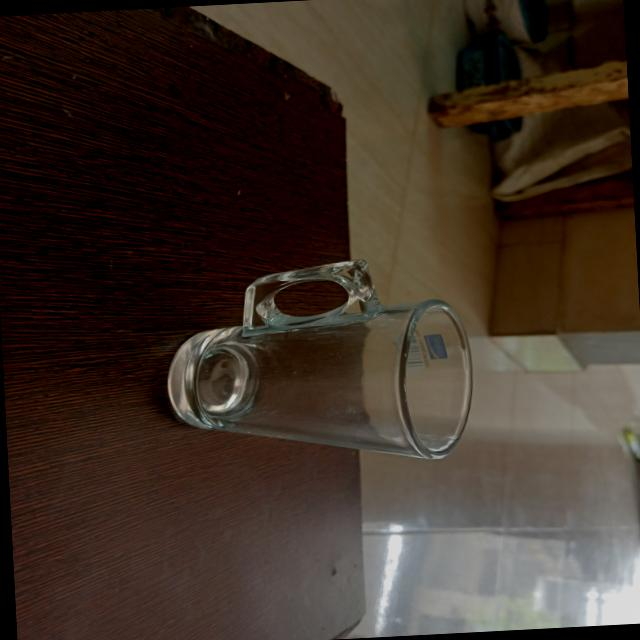glass-VX4N: (164, 250, 488, 472)
